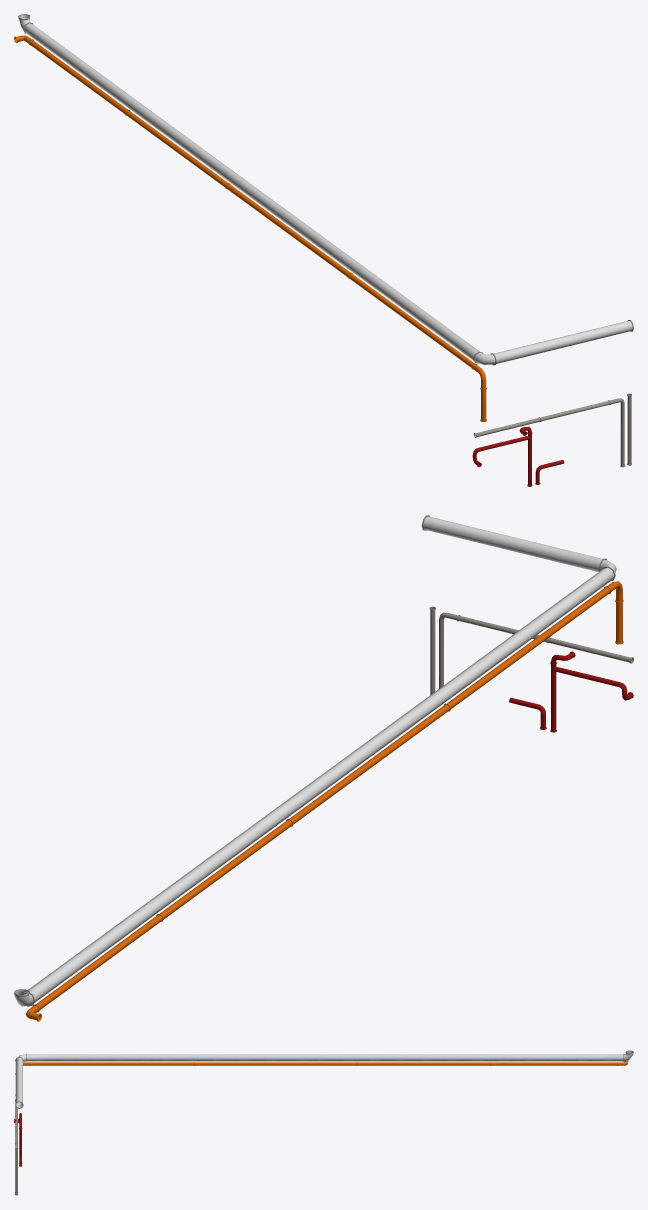
File: SM_H_Building_Tide_Bathhouse_01F_ATLAS.fbx
3 views of the same model, one above another, from view 1: azimuth 30°, elevation 25°; view 2: azimuth 150°, elevation 25°; view 3: azimuth 270°, elevation 25° (orthographic). The views are drawn at different scales.
Visible parts, largest first — view 1: SM_H_Building_Tide_Bathhouse_01F_ATLAS; view 2: SM_H_Building_Tide_Bathhouse_01F_ATLAS; view 3: SM_H_Building_Tide_Bathhouse_01F_ATLAS.
Boxes of the visible parts, bbox=[...] form: SM_H_Building_Tide_Bathhouse_01F_ATLAS: bbox=[14, 14, 633, 486]; SM_H_Building_Tide_Bathhouse_01F_ATLAS: bbox=[14, 515, 633, 1021]; SM_H_Building_Tide_Bathhouse_01F_ATLAS: bbox=[14, 1050, 633, 1195].
Size of the model in its own units: 1071 by 5487 by 938.
